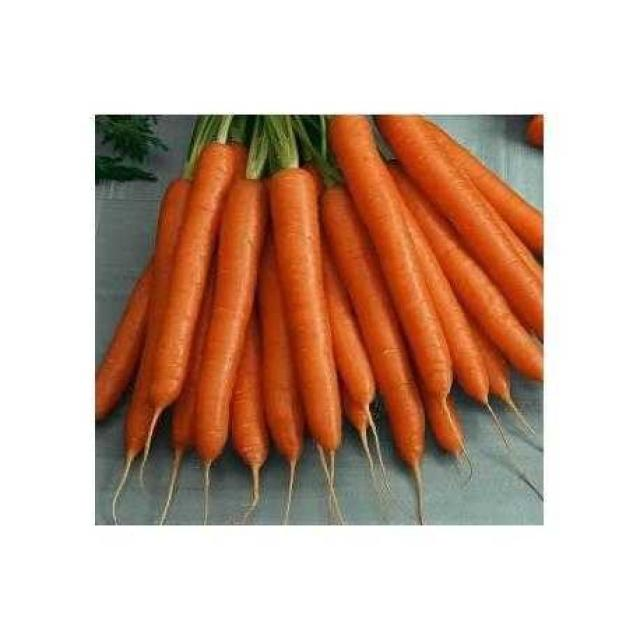carrots: (331, 120, 451, 405), (259, 169, 351, 463), (116, 170, 196, 468), (197, 159, 263, 475)
